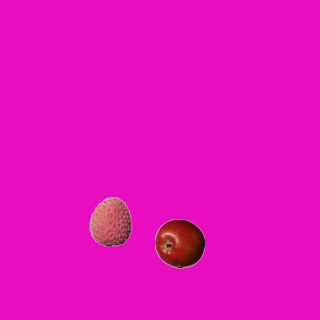Apple Braeburn: (154, 218, 204, 268)
Lychee: (85, 196, 135, 246)
